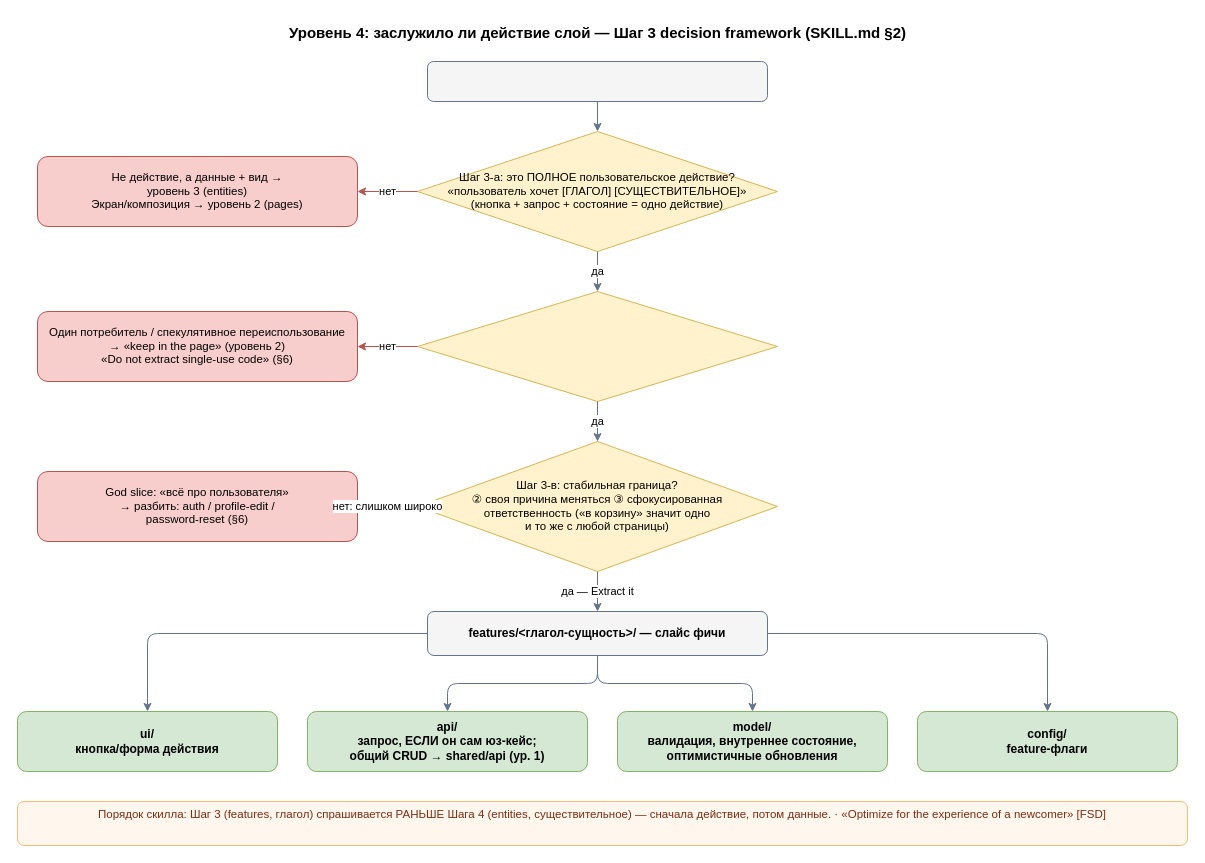
Image size: 1205x863. Some labels were removed from this diagram. The shapes that lost their labels are listed below. From the top down, each one's box as (x1, y1, x2, y2) in pixels, then its label:
(426, 60, 768, 102): Кандидат на features: «кнопка + логика»
(416, 290, 778, 402): Шаг 3-б: несколько потребителей СЕЙЧАС? (extraction rule ①: не гипотетически)
